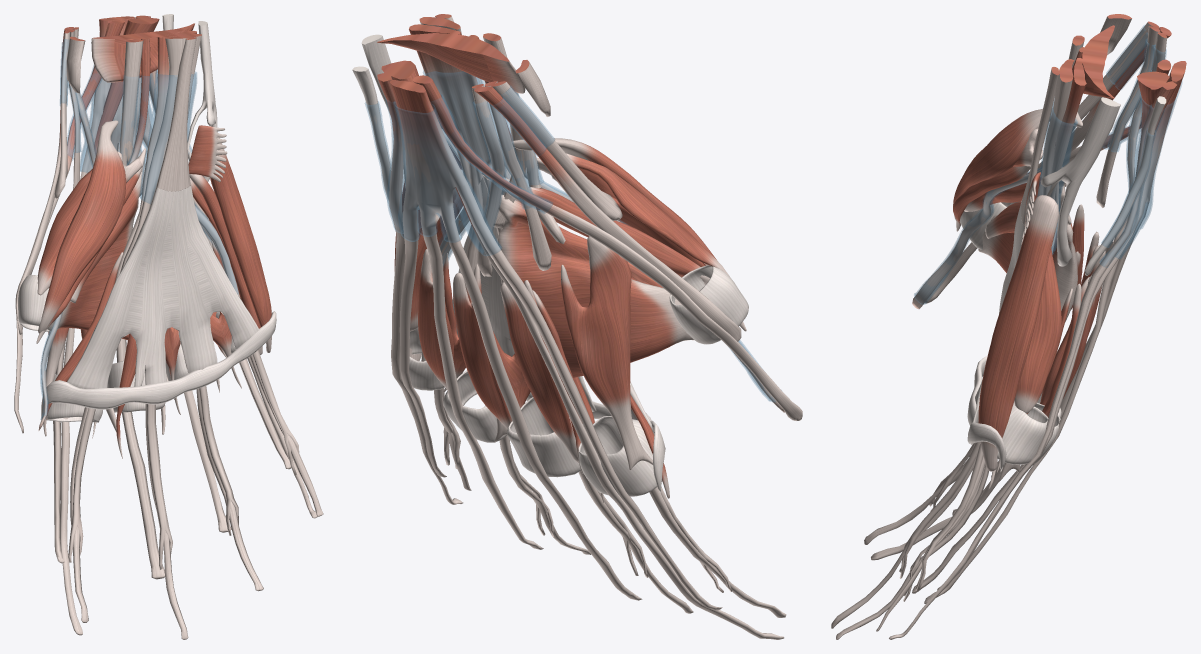
The model's file is open3d-hand-muscular-01.glb.
3 renders of one model, left to right at view 1: azimuth 30°, elevation 25°; view 2: azimuth 150°, elevation 25°; view 3: azimuth 270°, elevation 25°, orthographic. The views are drawn at different scales.
Visible parts, largest first — view 1: O3D_46f449bce0a4ab, O3D_a8fbba7db167ef, O3D_3a3c72dee126c7, O3D_cbcab603cf3f38, O3D_6b8f239ac929d5, O3D_6cf382e95a21ec, O3D_d1d620f9e91c70, O3D_93289717ca91ef, O3D_fd66fc8903cbb3, O3D_7b73e198fe8330, O3D_c5afb5d203ca00, O3D_12274b2e74a09a (+26 smaller); view 2: O3D_3a3c72dee126c7, O3D_c5afb5d203ca00, O3D_fd66fc8903cbb3, O3D_396311a48651bb, O3D_6b8f239ac929d5, O3D_3ff48b60327e62, O3D_4216573c026a62, O3D_7b73e198fe8330, O3D_ba6a4df249fc6f, O3D_f2b0f3b8b83d87, O3D_c819c99a87433e, O3D_93289717ca91ef (+28 smaller); view 3: O3D_d1d620f9e91c70, O3D_3a3c72dee126c7, O3D_6b8f239ac929d5, O3D_a8fbba7db167ef, O3D_f2b0f3b8b83d87, O3D_97d9671aaa22e2, O3D_e62b903c446d7c, O3D_c5afb5d203ca00, O3D_cbcab603cf3f38, O3D_fd66fc8903cbb3, O3D_93289717ca91ef, O3D_5e4bd068805411 (+25 smaller).
Part boxes in pixels (<box>): O3D_46f449bce0a4ab: <box>67,186,259,388</box>; O3D_a8fbba7db167ef: <box>68,34,299,569</box>; O3D_3a3c72dee126c7: <box>53,16,291,579</box>; O3D_cbcab603cf3f38: <box>38,120,126,333</box>; O3D_6b8f239ac929d5: <box>70,31,323,639</box>; O3D_6cf382e95a21ec: <box>41,311,276,424</box>; O3D_d1d620f9e91c70: <box>210,137,271,352</box>; O3D_93289717ca91ef: <box>139,71,238,294</box>; O3D_fd66fc8903cbb3: <box>49,171,143,340</box>; O3D_7b73e198fe8330: <box>60,18,159,635</box>; O3D_c5afb5d203ca00: <box>18,275,236,422</box>; O3D_12274b2e74a09a: <box>156,37,196,191</box>; O3D_3a3c72dee126c7: <box>389,80,722,610</box>; O3D_c5afb5d203ca00: <box>402,265,748,496</box>; O3D_fd66fc8903cbb3: <box>497,194,694,377</box>; O3D_396311a48651bb: <box>561,236,652,470</box>; O3D_6b8f239ac929d5: <box>409,24,786,617</box>; O3D_3ff48b60327e62: <box>393,102,501,255</box>; O3D_4216573c026a62: <box>412,75,802,420</box>; O3D_7b73e198fe8330: <box>381,60,784,639</box>; O3D_ba6a4df249fc6f: <box>474,86,741,341</box>; O3D_f2b0f3b8b83d87: <box>377,73,463,504</box>; O3D_c819c99a87433e: <box>500,280,578,462</box>; O3D_93289717ca91ef: <box>423,70,510,266</box>; O3D_d1d620f9e91c70: <box>978,195,1058,471</box>; O3D_3a3c72dee126c7: <box>912,61,1186,603</box>; O3D_6b8f239ac929d5: <box>831,58,1086,639</box>; O3D_a8fbba7db167ef: <box>899,59,1074,601</box>; O3D_f2b0f3b8b83d87: <box>889,81,1176,639</box>; O3D_97d9671aaa22e2: <box>1014,248,1061,413</box>; O3D_e62b903c446d7c: <box>1040,97,1120,266</box>; O3D_c5afb5d203ca00: <box>959,201,1061,464</box>; O3D_cbcab603cf3f38: <box>953,108,1082,220</box>; O3D_fd66fc8903cbb3: <box>978,193,1077,321</box>; O3D_93289717ca91ef: <box>1037,101,1077,254</box>; O3D_5e4bd068805411: <box>914,167,1040,304</box>.
Size of the model in its own units: 0.1029 by 0.1758 by 0.0915.
Materials: 4 (3 with a texture image).
